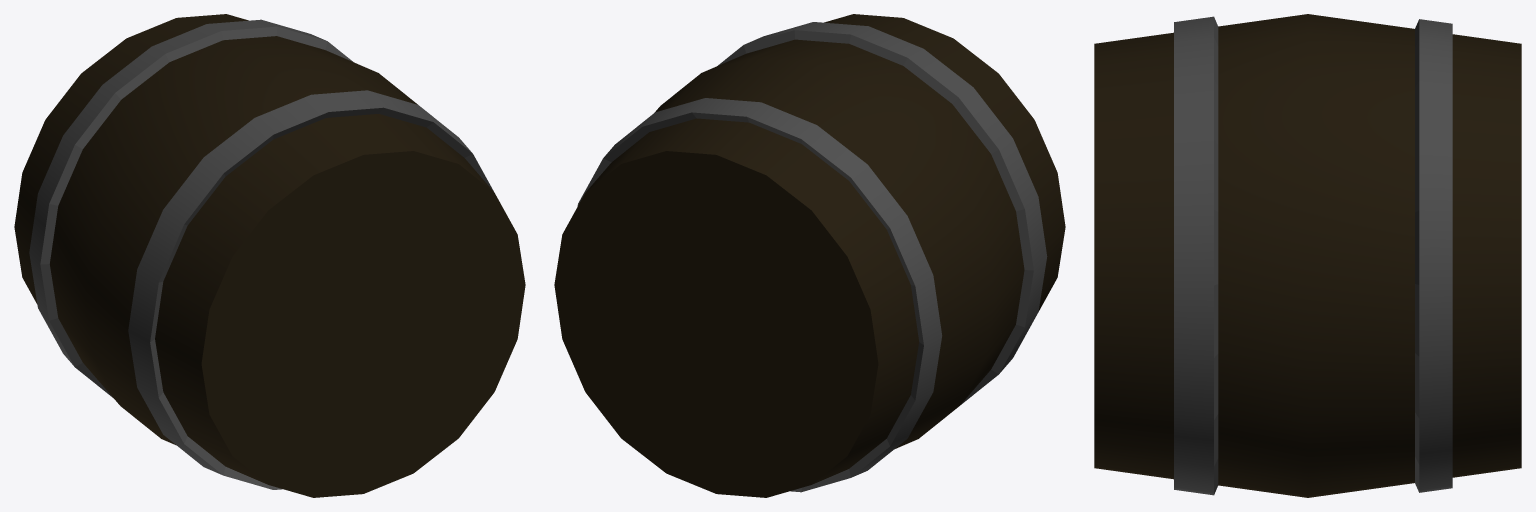
The model's file is Tonneau.fbx.
3 renders of one model, left to right at view 1: azimuth 30°, elevation 25°; view 2: azimuth 150°, elevation 25°; view 3: azimuth 270°, elevation 25°, orthographic. The views are drawn at different scales.
Parts seen in each view (by area): view 1: Tonneau; view 2: Tonneau; view 3: Tonneau.
Boxes of the visible parts, left/top/right/bottom form: Tonneau: left=14, top=14, right=525, bottom=497; Tonneau: left=554, top=14, right=1065, bottom=497; Tonneau: left=1094, top=14, right=1521, bottom=497.
Size of the model in its own units: 228 by 228 by 200.
